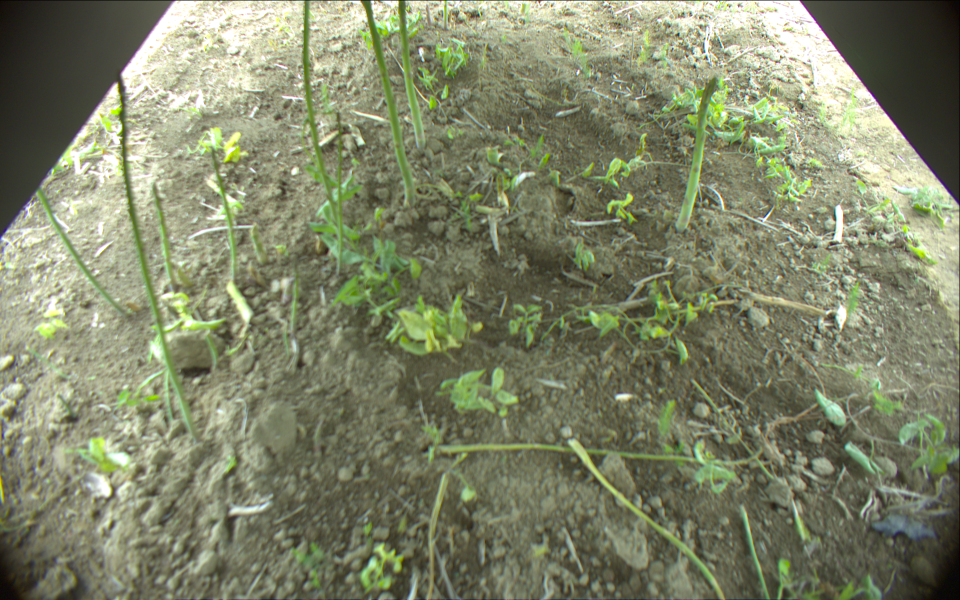aspa: (112, 60, 205, 442), (570, 442, 724, 600), (34, 188, 129, 316), (359, 1, 416, 208), (432, 442, 735, 480), (299, 1, 347, 216), (677, 77, 720, 230), (394, 1, 429, 148), (212, 148, 239, 288), (149, 180, 178, 295), (741, 505, 771, 600), (427, 474, 449, 600), (334, 110, 344, 275), (252, 223, 269, 266)
